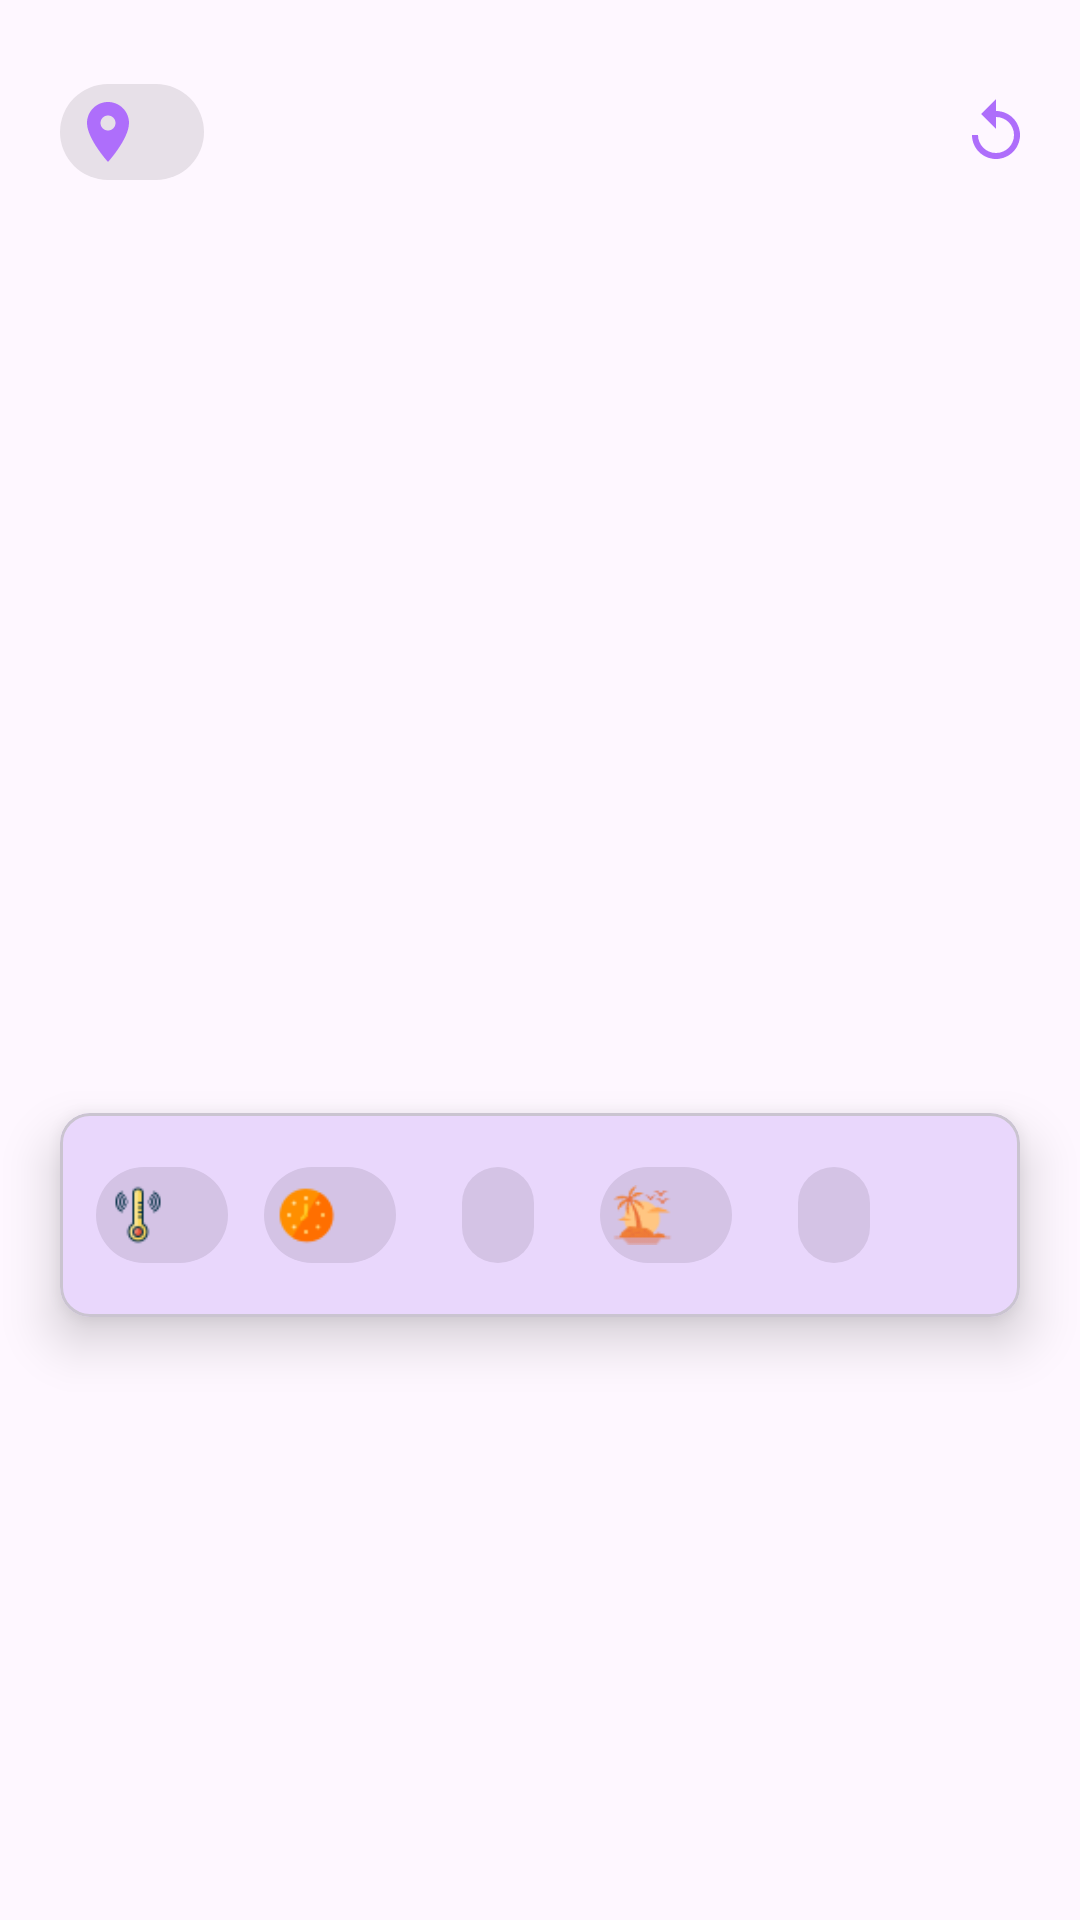

Screen size 1080px x 1920px. Icon name, then its box in pixels as (x1, y1, x2, y2):
reload: (972, 99, 1020, 159)
